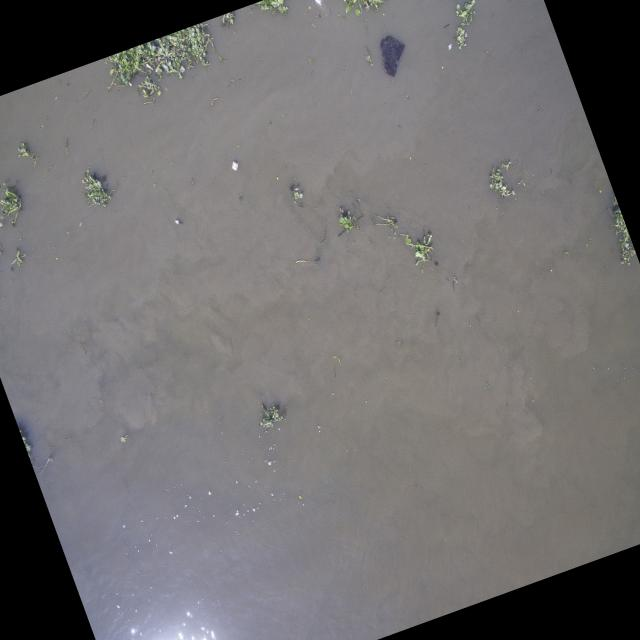Plastic: (372, 30, 414, 80), (312, 0, 332, 19), (230, 159, 240, 172)
